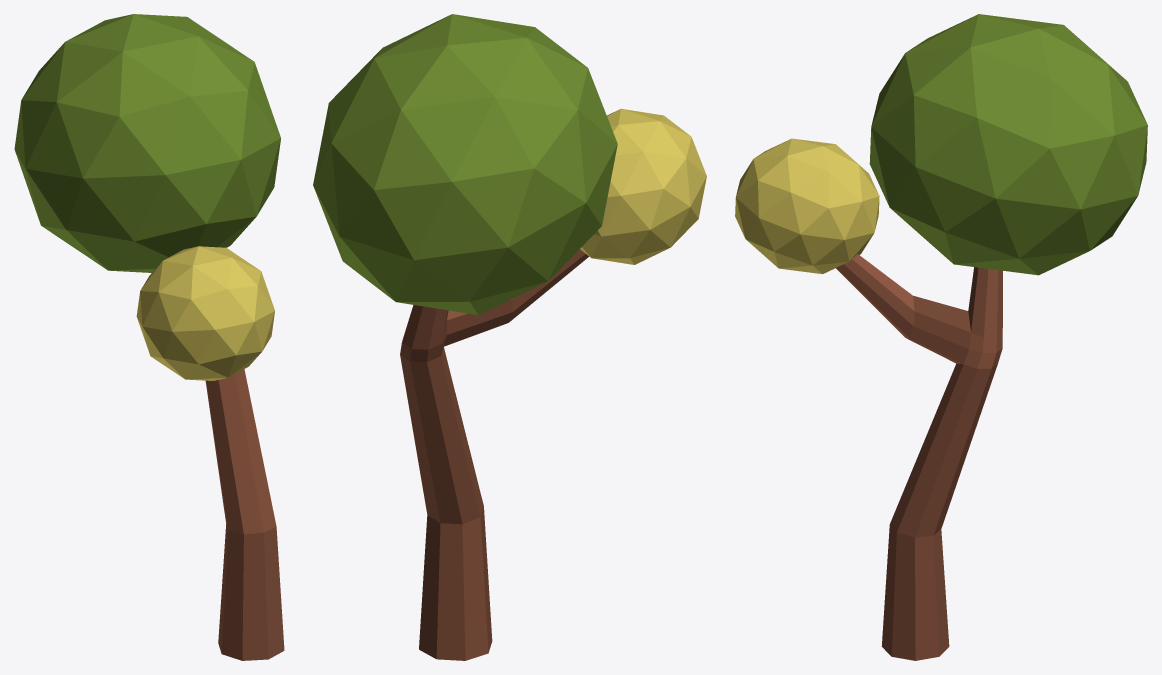
Rendered from Tree_02_autumn_mat.fbx.
3 renders of one model, left to right at view 1: azimuth 30°, elevation 25°; view 2: azimuth 150°, elevation 25°; view 3: azimuth 270°, elevation 25°, orthographic. The views are drawn at different scales.
Parts seen in each view (by area): view 1: Tree_02_autumn_mat; view 2: Tree_02_autumn_mat; view 3: Tree_02_autumn_mat.
Part boxes in pixels (box(x1,y1,x2,y2)): Tree_02_autumn_mat: box(14, 14, 284, 660); Tree_02_autumn_mat: box(313, 14, 706, 660); Tree_02_autumn_mat: box(735, 14, 1147, 660).
Bounding box in the file's own units: 2.86 × 7.09 × 4.49.
